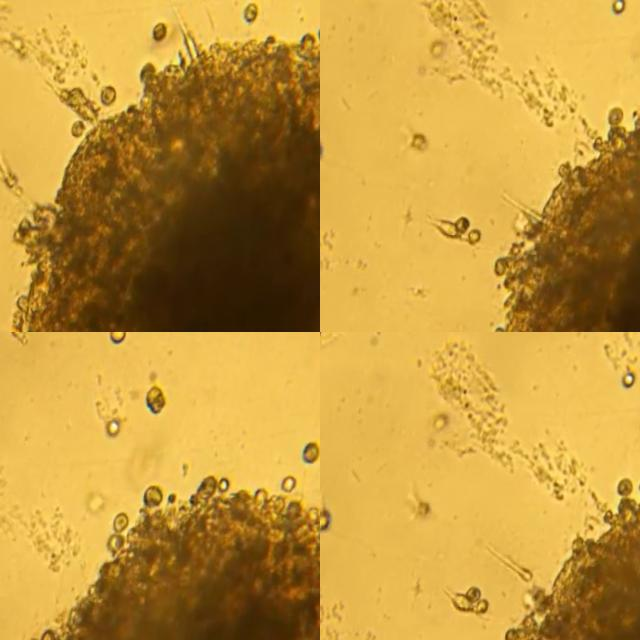cell: (52, 85, 110, 122), (495, 543, 539, 579), (451, 585, 497, 611), (434, 215, 474, 237), (1, 152, 26, 185), (146, 383, 167, 413), (320, 509, 338, 533), (106, 83, 123, 104), (108, 415, 123, 436), (245, 0, 261, 19), (156, 20, 170, 41), (306, 440, 320, 461), (320, 136, 329, 163), (77, 118, 91, 135), (624, 370, 639, 385), (476, 230, 489, 246), (615, 0, 629, 13), (110, 332, 128, 342), (13, 332, 27, 342)
tumor_mass: (21, 1, 320, 332), (36, 470, 320, 640)
